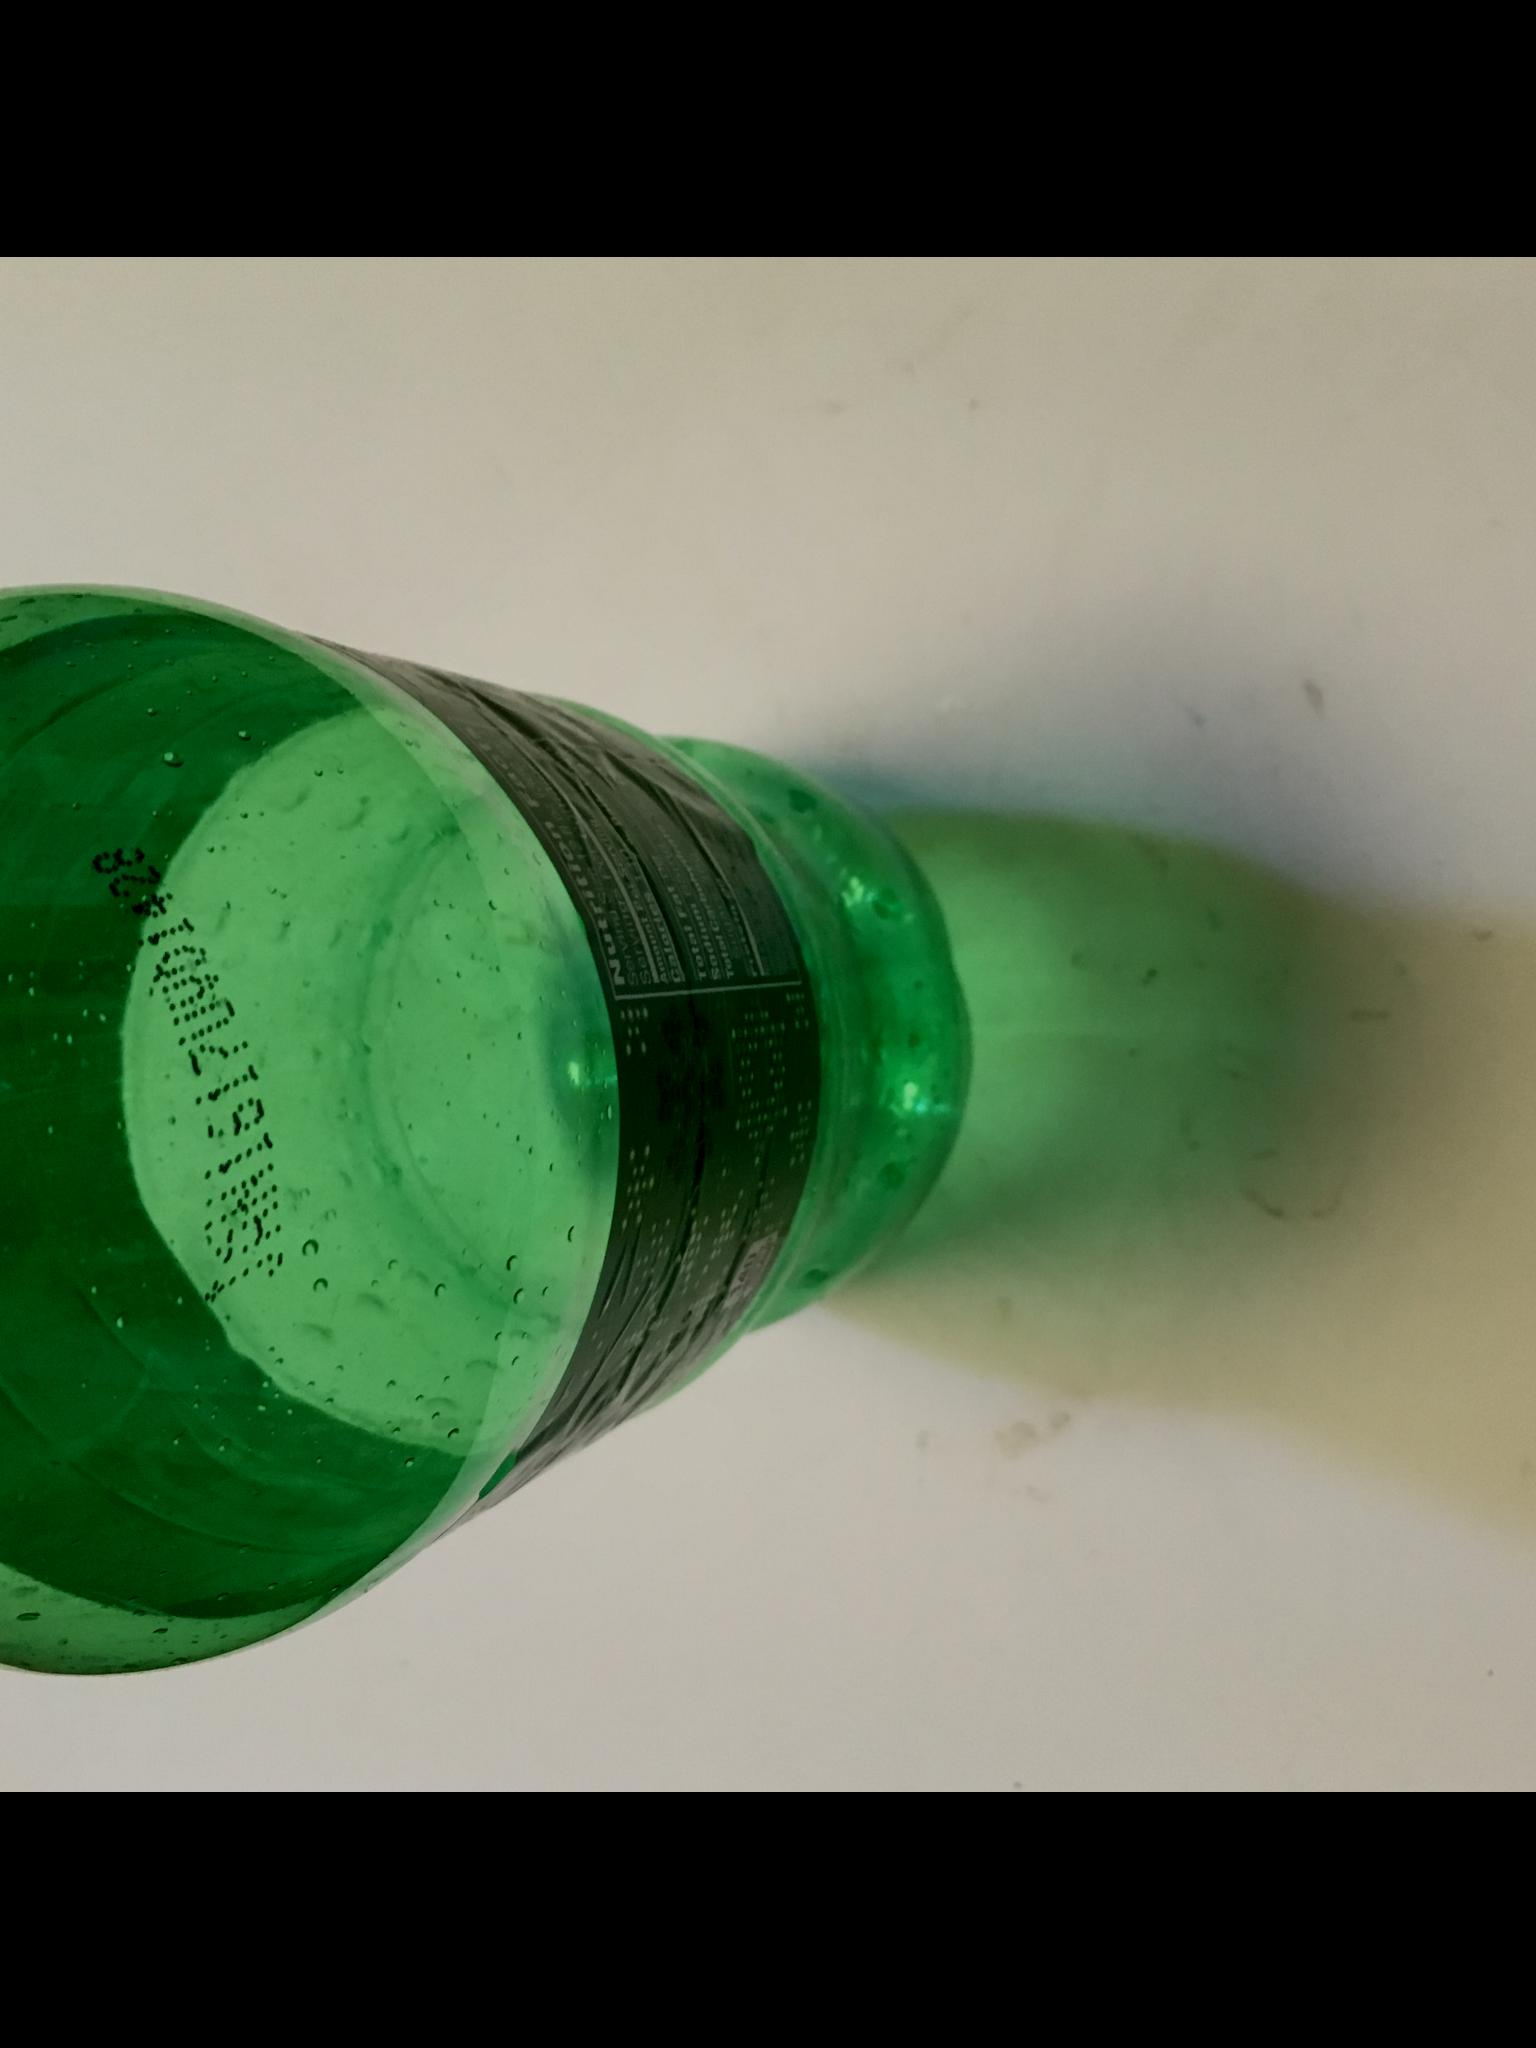Plastic: (0, 564, 1025, 1693)
